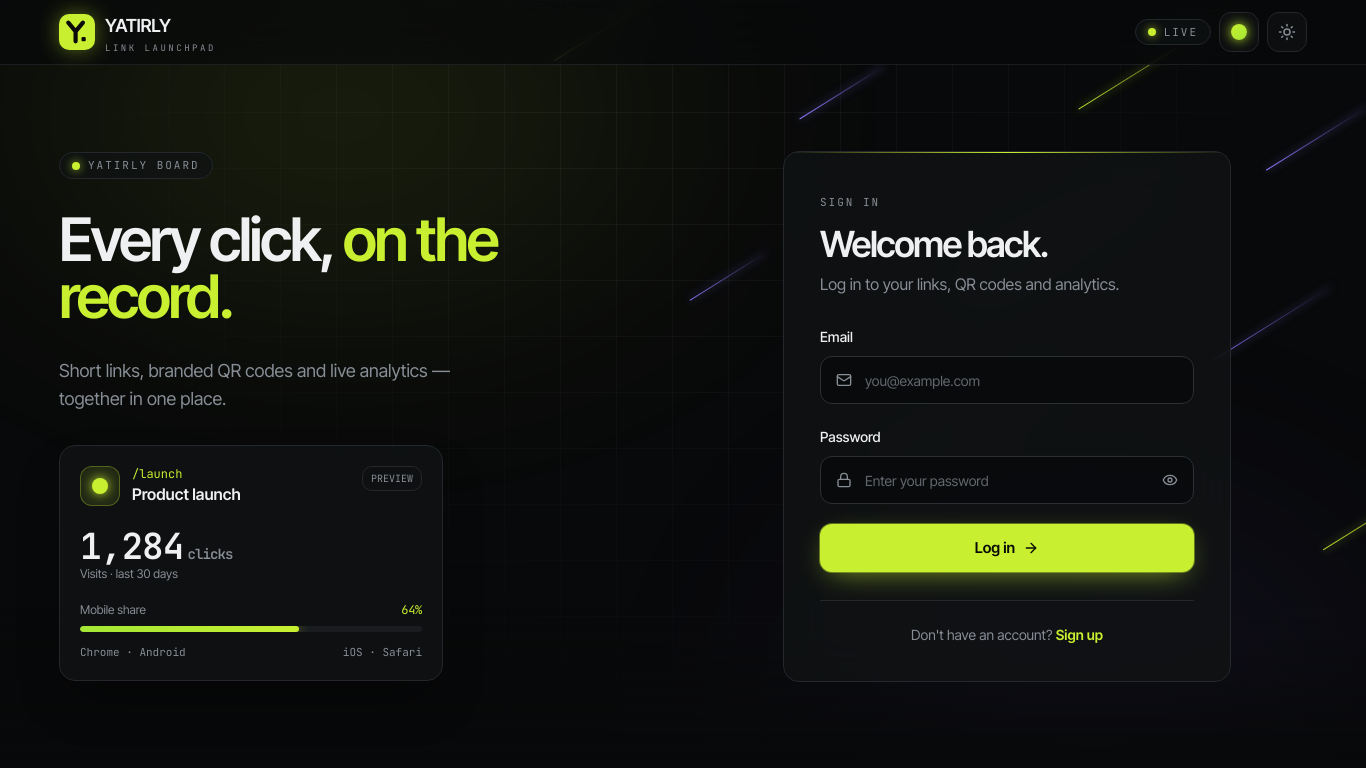
it: Login page › shows the API message when success is false
Type "jane@example.com" into the field labelled "Email" at (1007, 380), box 820,356 -> 1194,404
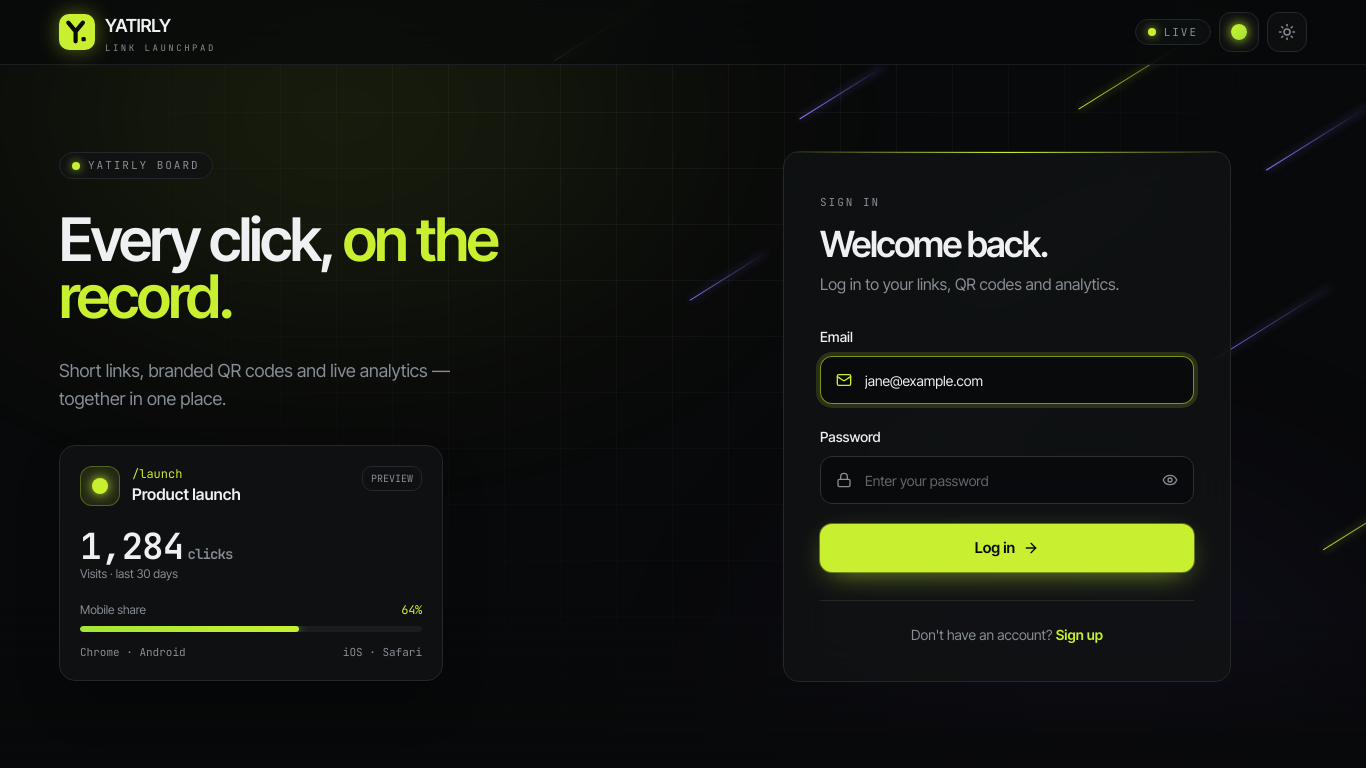
Type "secret" into the password field labelled "Password" at (1007, 480), box 820,456 -> 1194,504
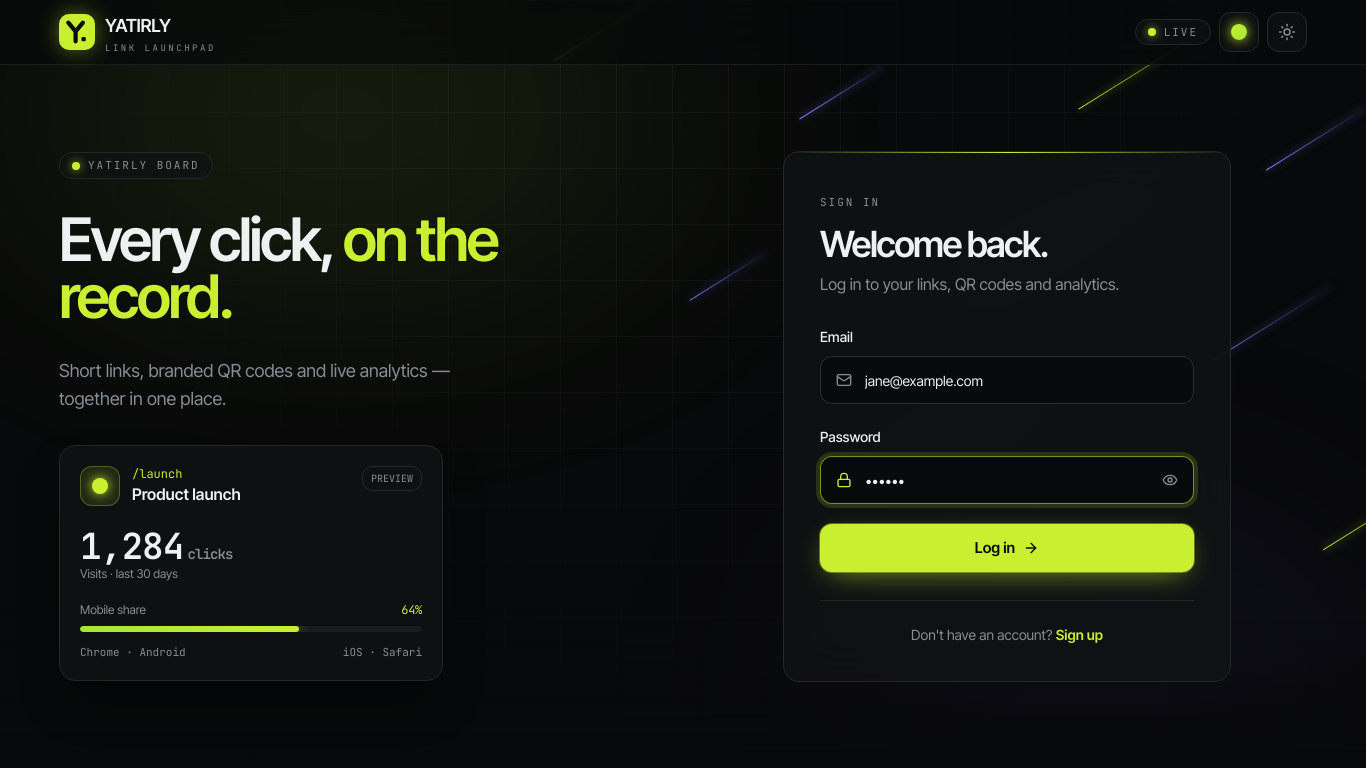
Click the button "Log in" at (1007, 548), box 820,524 -> 1194,572
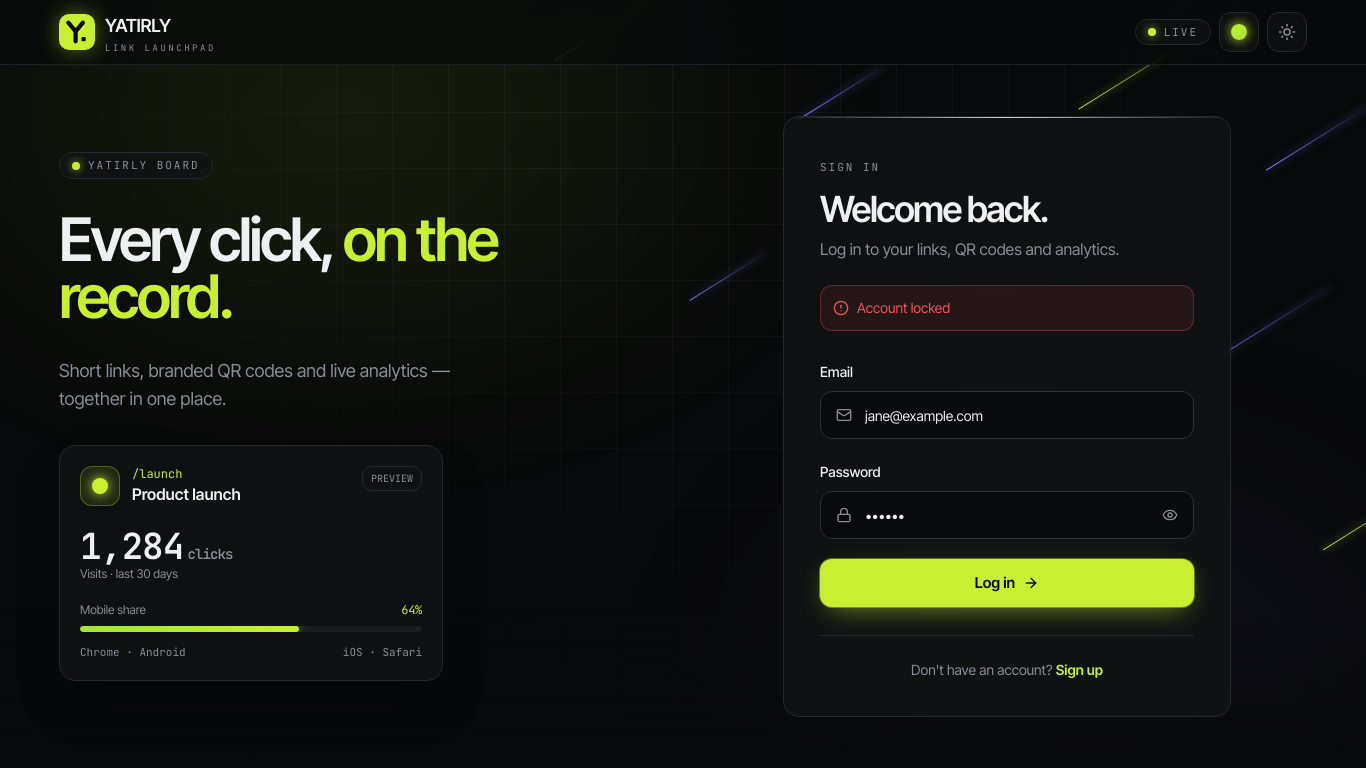
Expected: the text "Account locked" is shown, 820,285 -> 1194,331
